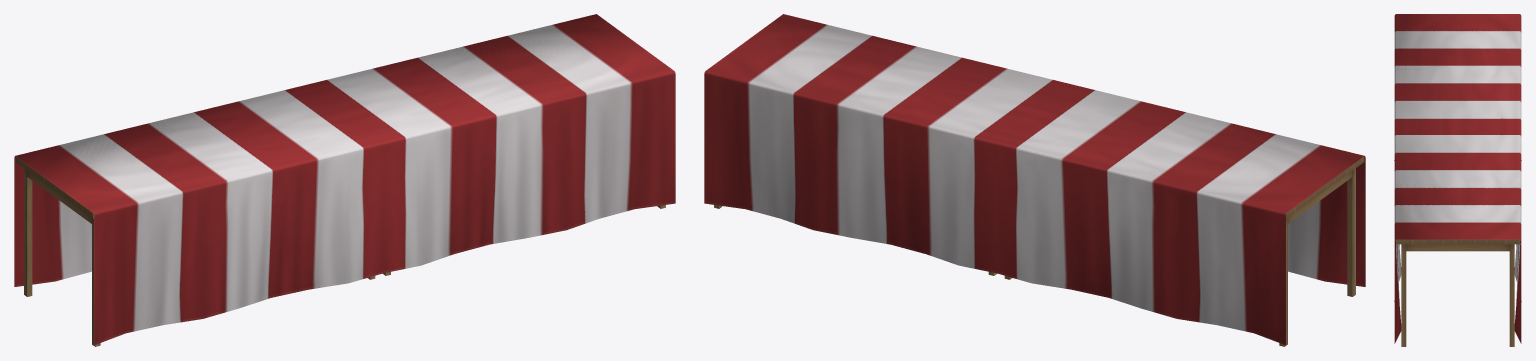
The model's file is jsf_Table_02.fbx.
3 renders of one model, left to right at view 1: azimuth 30°, elevation 25°; view 2: azimuth 150°, elevation 25°; view 3: azimuth 270°, elevation 25°, orthographic. The views are drawn at different scales.
Visible parts, largest first — view 1: jsf_Table_02; view 2: jsf_Table_02; view 3: jsf_Table_02.
Boxes of the visible parts, x1,y1,x2,y2 form: jsf_Table_02: [14, 14, 675, 346]; jsf_Table_02: [704, 14, 1365, 346]; jsf_Table_02: [1394, 14, 1521, 346].
Size of the model in its own units: 310 by 70.03 by 73.66.
